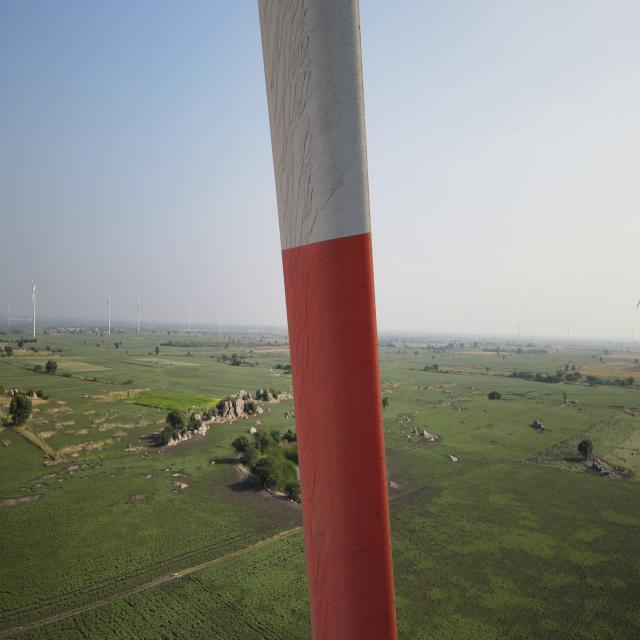Dirt: (259, 0, 400, 640)
